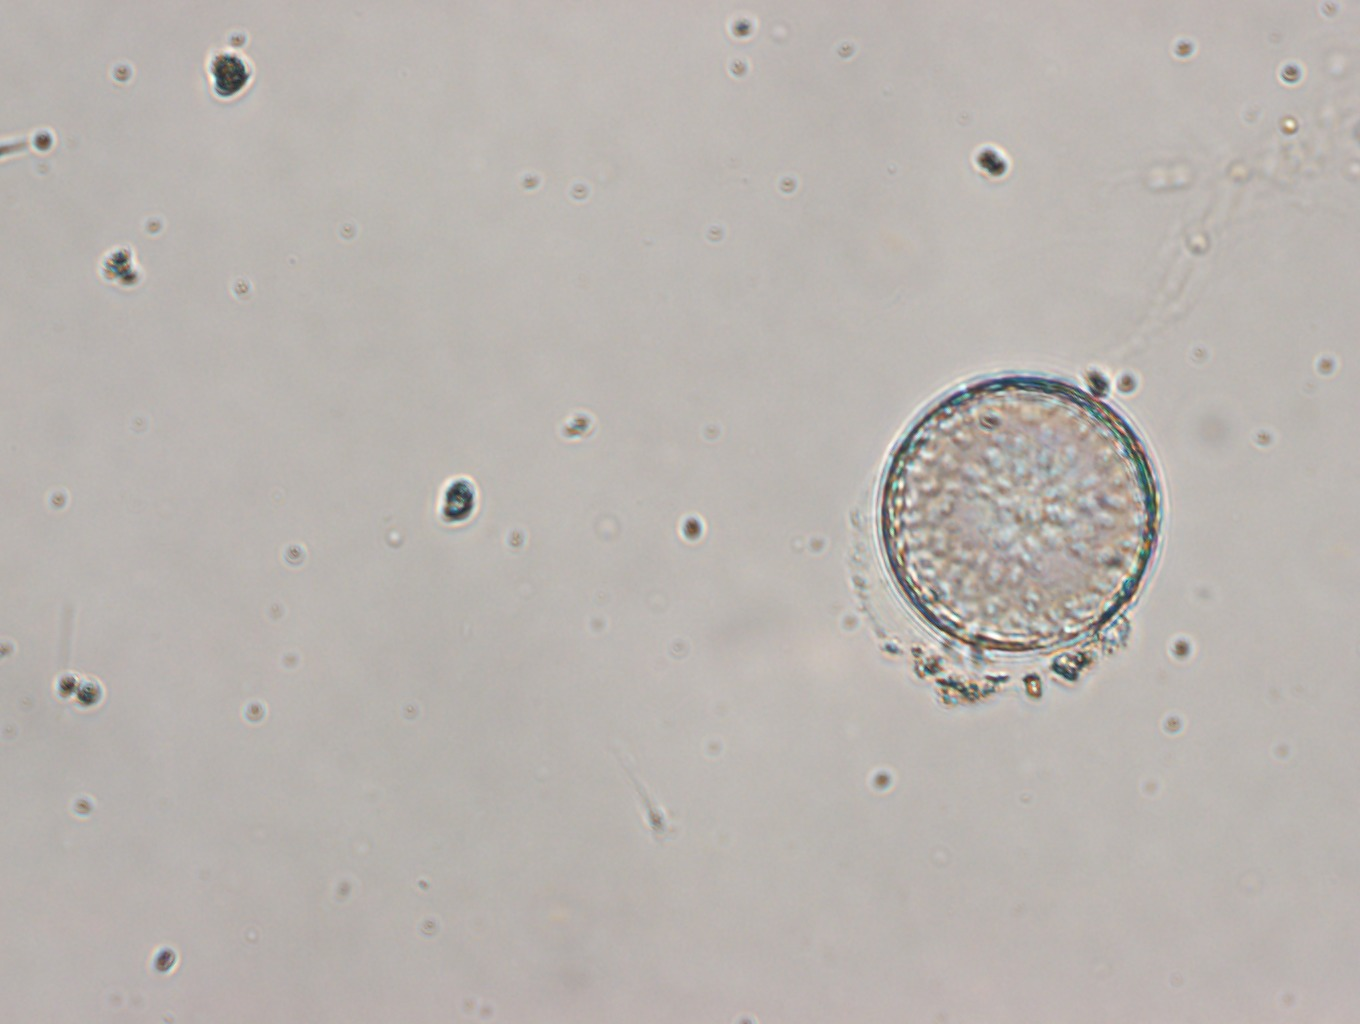coscinodiscus: (870, 370, 1162, 658)
